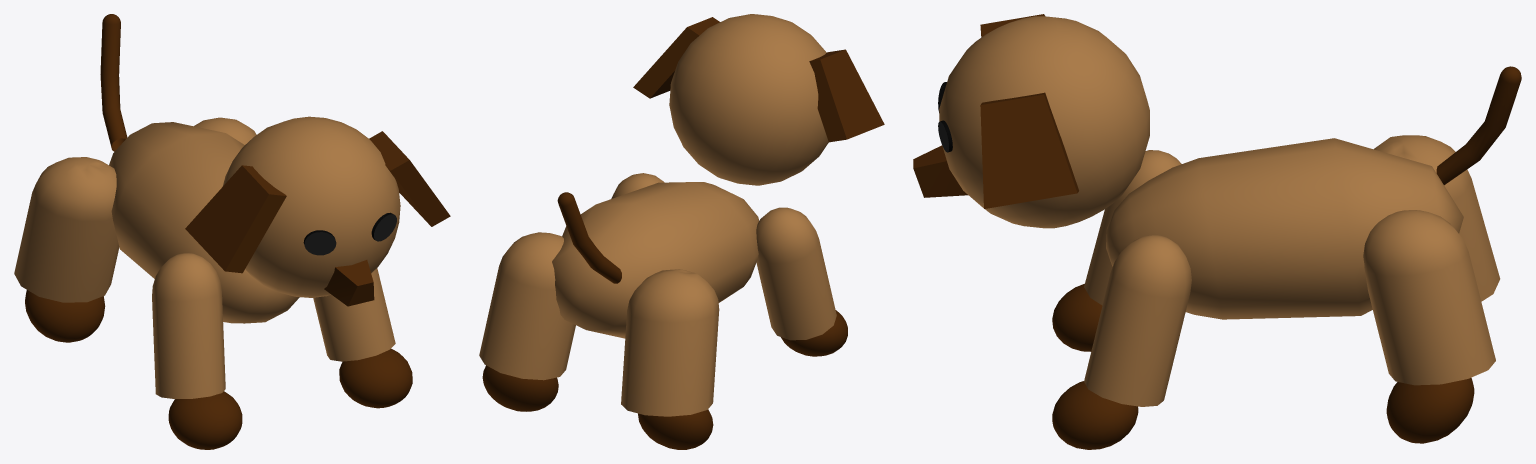
The model's file is Dog.fbx.
3 views of the same model, side by side, from view 1: azimuth 30°, elevation 25°; view 2: azimuth 150°, elevation 25°; view 3: azimuth 270°, elevation 25° (orthographic). The views are drawn at different scales.
Visible parts, largest first — view 1: Cat; view 2: Cat; view 3: Cat.
Part boxes in pixels (bbox=[...]): Cat: bbox=[14, 14, 450, 449]; Cat: bbox=[479, 14, 884, 449]; Cat: bbox=[913, 14, 1521, 449].
Bounding box in the file's own units: 11.77 × 14.78 × 22.15.
1 material, 1 textured.
